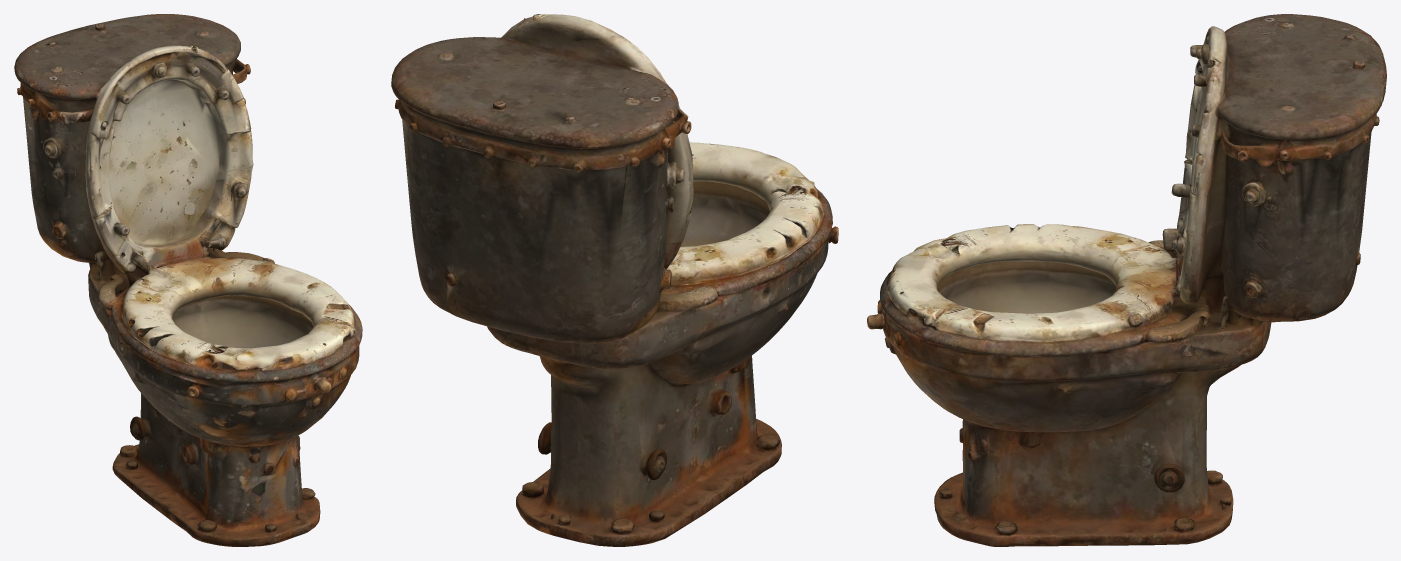
The model's file is toilet.glb.
3 renders of one model, left to right at view 1: azimuth 30°, elevation 25°; view 2: azimuth 150°, elevation 25°; view 3: azimuth 270°, elevation 25°, orthographic. The views are drawn at different scales.
Parts seen in each view (by area): view 1: toilet; view 2: toilet; view 3: toilet.
Boxes of the visible parts, box(x1,y1,x2,y2) form: toilet: box(14, 14, 362, 546); toilet: box(391, 14, 838, 546); toilet: box(867, 14, 1386, 546).
Size of the model in its own units: 0.5245 by 0.9791 by 0.9721.
1 material, 1 textured.
